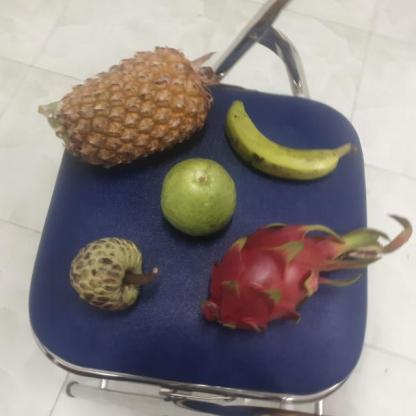annona: (64, 238, 148, 311)
banana: (216, 99, 340, 181)
guava: (157, 158, 238, 238)
pineapple: (52, 51, 211, 170)
pitaya: (196, 222, 326, 332)
